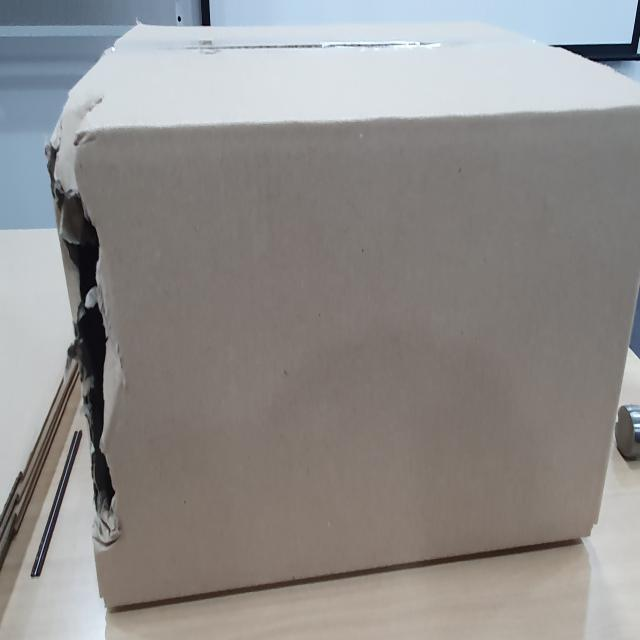hole: (48, 143, 124, 536)
